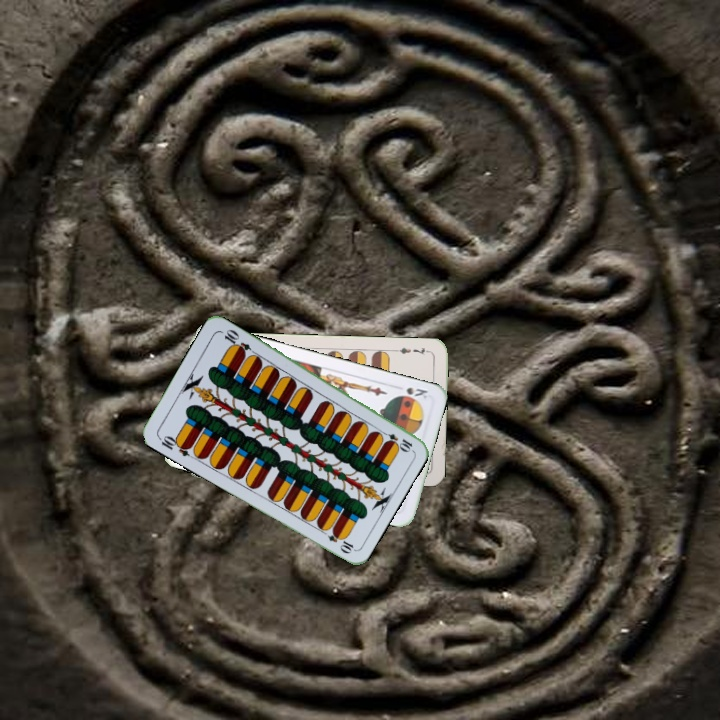E10: (155, 431, 194, 459), (376, 427, 415, 453)
E7: (392, 343, 432, 357)
SK: (402, 383, 430, 401)
